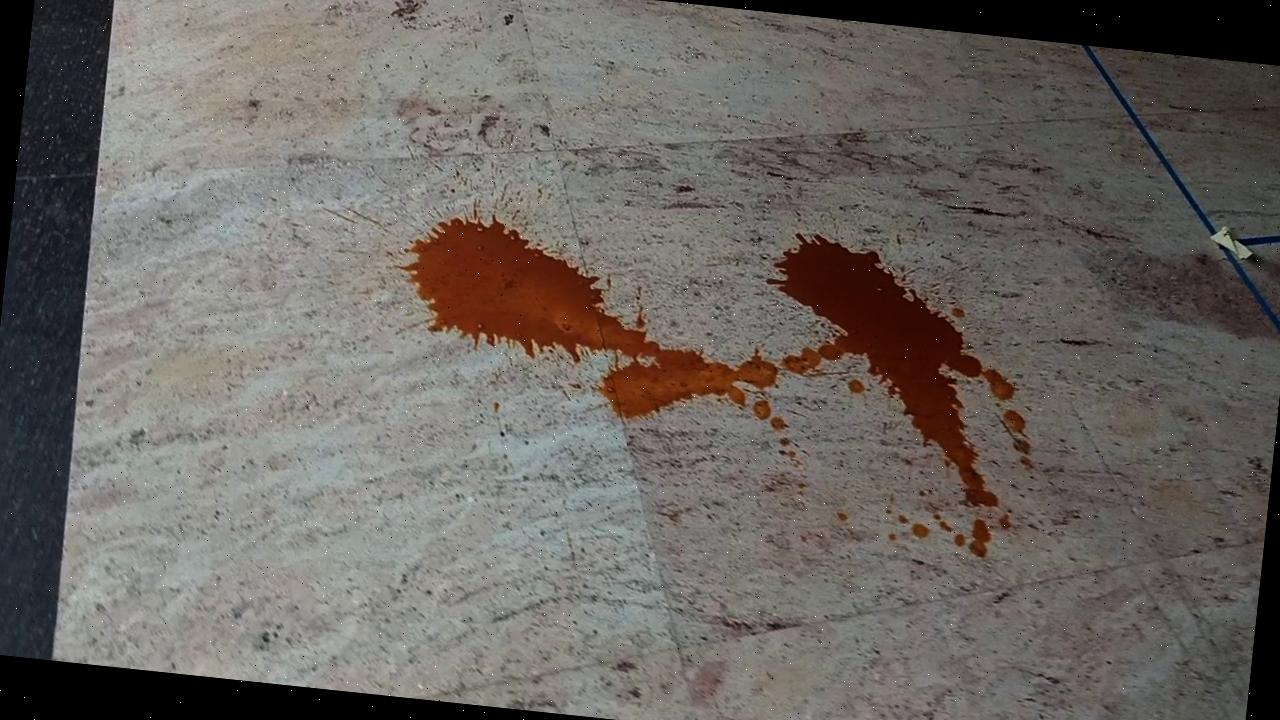dirty_floor: (388, 194, 1058, 564)
